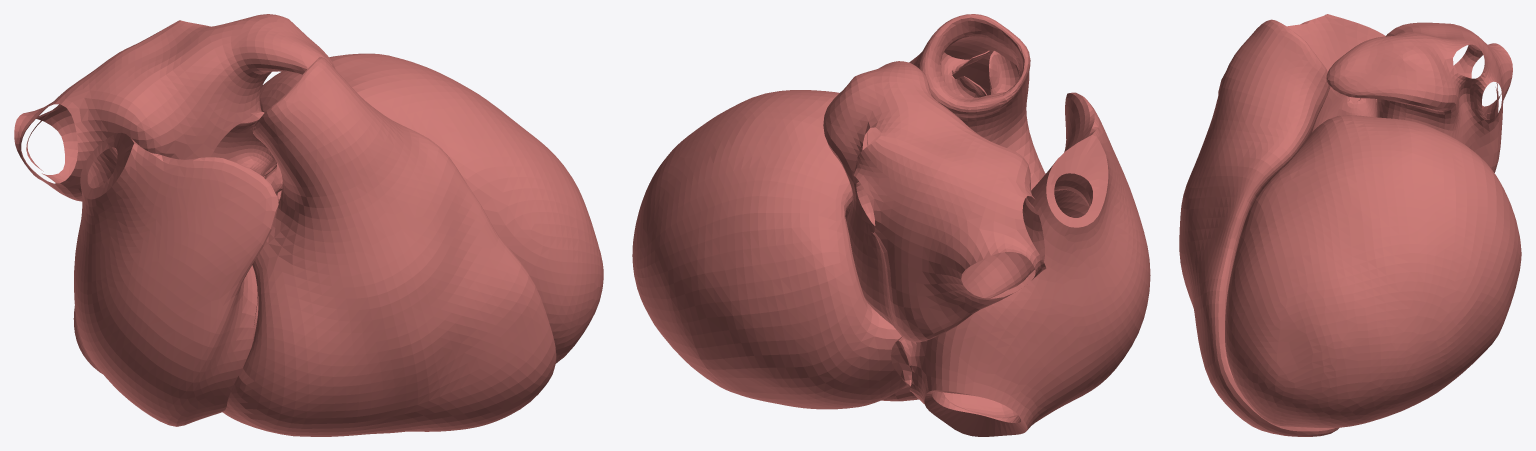
Rendered from VH_F_Heart_0.8.glb.
The picture shows the model from 3 angles, left to right: view 1: azimuth 30°, elevation 25°; view 2: azimuth 150°, elevation 25°; view 3: azimuth 270°, elevation 25°; orthographic projection. The views are drawn at different scales.
Visible parts, largest first — view 1: VH_F_right_ventricle, VH_F_right_cardiac_atrium, VH_F_left_ventricle, VH_F_left_cardiac_atrium, VH_F_aortic_valve; view 2: VH_F_left_ventricle, VH_F_right_cardiac_atrium, VH_F_left_cardiac_atrium, VH_F_right_ventricle, VH_F_pulmonary_valve; view 3: VH_F_left_ventricle, VH_F_right_ventricle, VH_F_left_cardiac_atrium, VH_F_right_cardiac_atrium, VH_F_aortic_valve.
Part boxes in pixels (x1,y1,x2,y2): VH_F_right_ventricle: [222, 57, 556, 436]; VH_F_right_cardiac_atrium: [73, 132, 278, 426]; VH_F_left_ventricle: [259, 53, 603, 363]; VH_F_left_cardiac_atrium: [14, 14, 335, 201]; VH_F_aortic_valve: [211, 111, 282, 202]; VH_F_left_ventricle: [632, 90, 906, 409]; VH_F_right_cardiac_atrium: [890, 92, 1150, 436]; VH_F_left_cardiac_atrium: [823, 61, 1046, 342]; VH_F_right_ventricle: [881, 14, 1045, 401]; VH_F_pulmonary_valve: [940, 50, 1019, 97]; VH_F_left_ventricle: [1225, 115, 1521, 427]; VH_F_right_ventricle: [1179, 19, 1339, 436]; VH_F_left_cardiac_atrium: [1326, 22, 1512, 172]; VH_F_right_cardiac_atrium: [1218, 14, 1385, 101]; VH_F_aortic_valve: [1312, 86, 1377, 132].
Size of the model in its own units: 0.1426 by 0.1101 by 0.1015.
